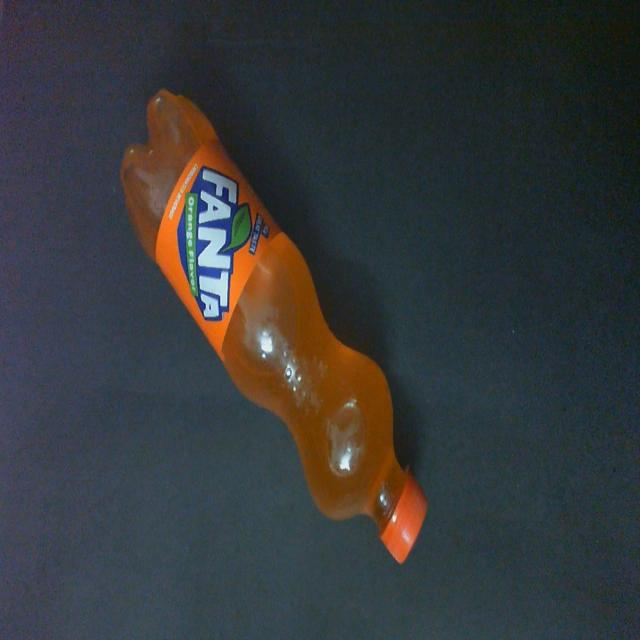non-defect: (117, 82, 431, 570)
